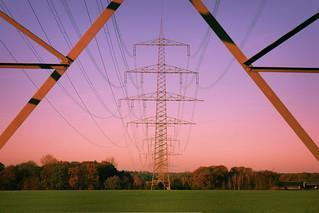power_tower: (128, 16, 199, 190)
